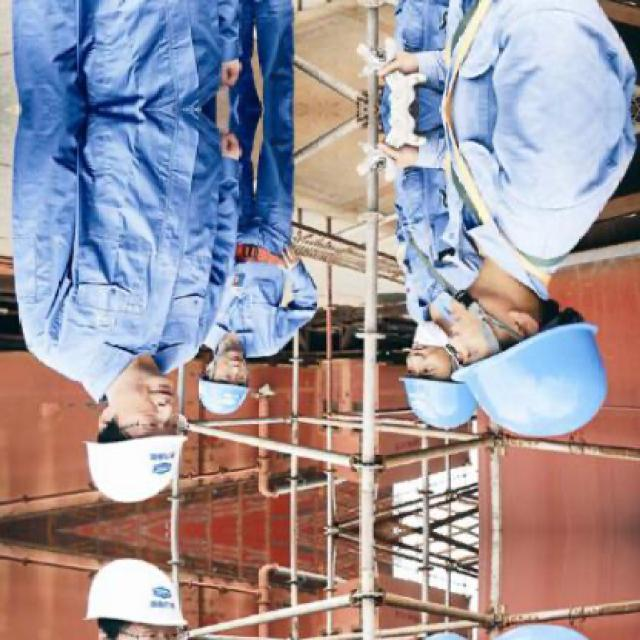con casco: (434, 260, 628, 441), (78, 365, 224, 518), (373, 325, 489, 452), (200, 334, 314, 416)
